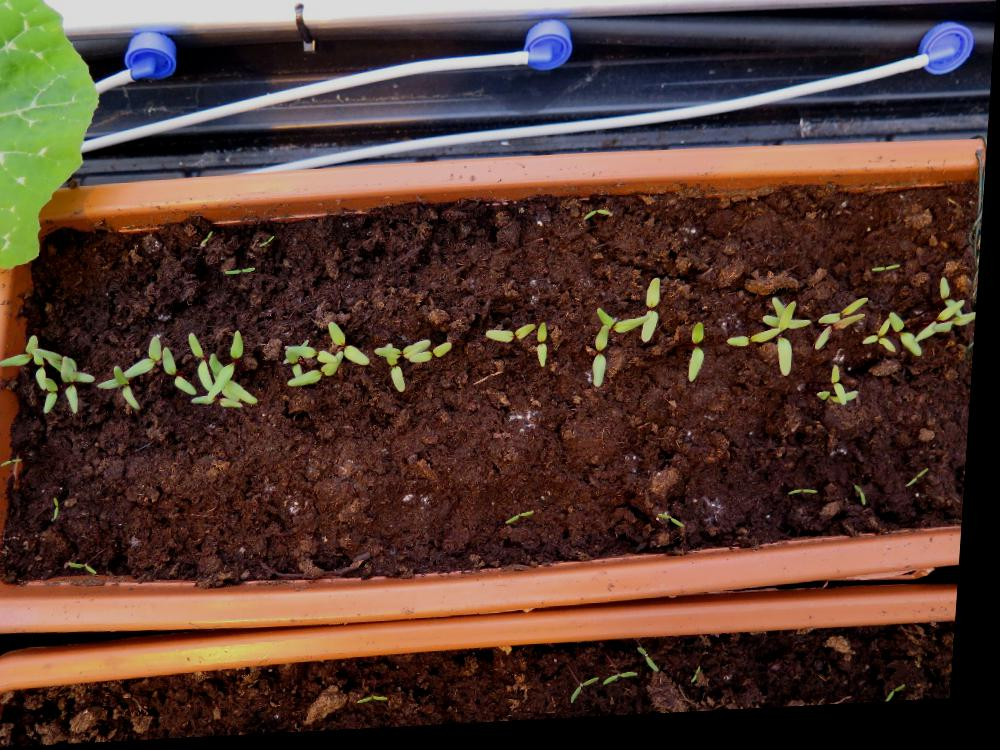crop: (487, 326, 541, 350), (692, 327, 711, 391), (539, 325, 554, 373)
weed: (578, 681, 609, 711), (644, 651, 669, 679), (610, 675, 647, 693), (73, 559, 105, 578), (663, 518, 692, 537), (364, 694, 399, 709), (911, 476, 936, 497), (511, 514, 542, 530), (227, 265, 261, 279), (585, 213, 615, 228), (858, 492, 874, 515), (3, 456, 29, 468), (794, 494, 825, 504), (873, 272, 904, 281), (698, 671, 710, 692), (260, 236, 277, 250), (57, 496, 66, 520), (204, 231, 215, 247)
